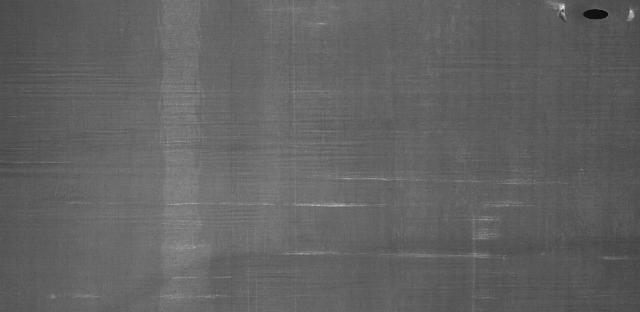punching_hole: (580, 5, 612, 23)
